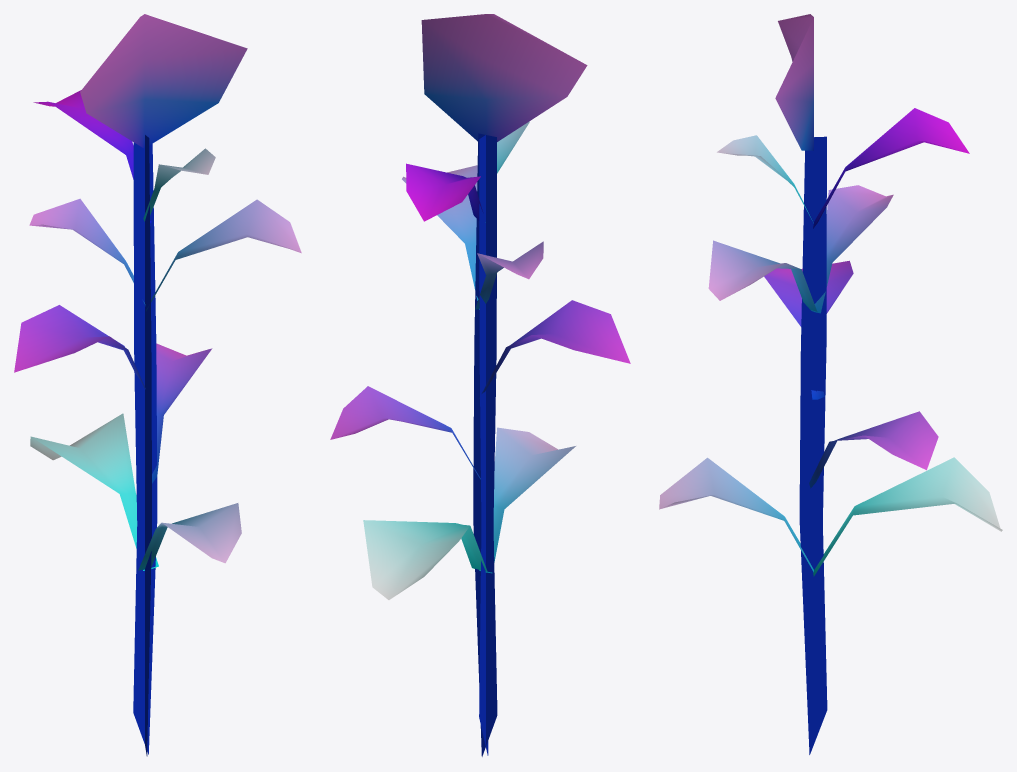
The model's file is Curbside_Weeds_ujzjfexja_Mid_ujzjfexja_VarF_LOD0.fbx.
The picture shows the model from 3 angles, left to right: view 1: azimuth 30°, elevation 25°; view 2: azimuth 150°, elevation 25°; view 3: azimuth 270°, elevation 25°; orthographic projection.
Parts seen in each view (by area): view 1: _4sbo_VarF_LOD1; view 2: _4sbo_VarF_LOD1; view 3: _4sbo_VarF_LOD1.
Part boxes in pixels (left/top/right/bottom): _4sbo_VarF_LOD1: left=14, top=14, right=301, bottom=756; _4sbo_VarF_LOD1: left=330, top=14, right=630, bottom=756; _4sbo_VarF_LOD1: left=659, top=14, right=1002, bottom=754.
Bounding box in the file's own units: 2.44 × 6.9 × 2.91.
